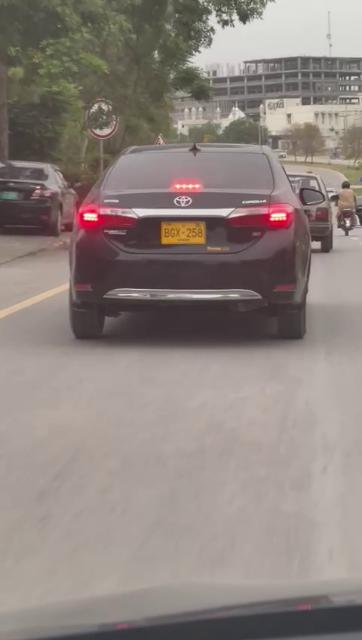plate: (161, 218, 212, 246)
